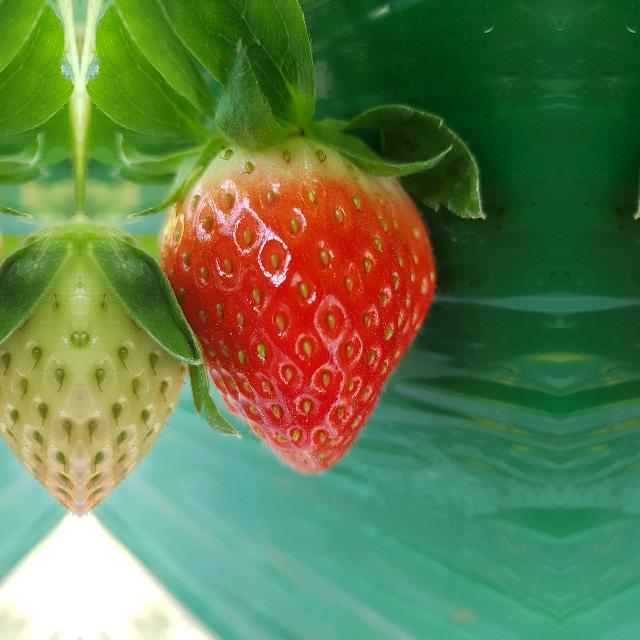Health_100: (158, 137, 436, 475)
Health_25: (80, 222, 186, 518), (0, 221, 80, 518)
